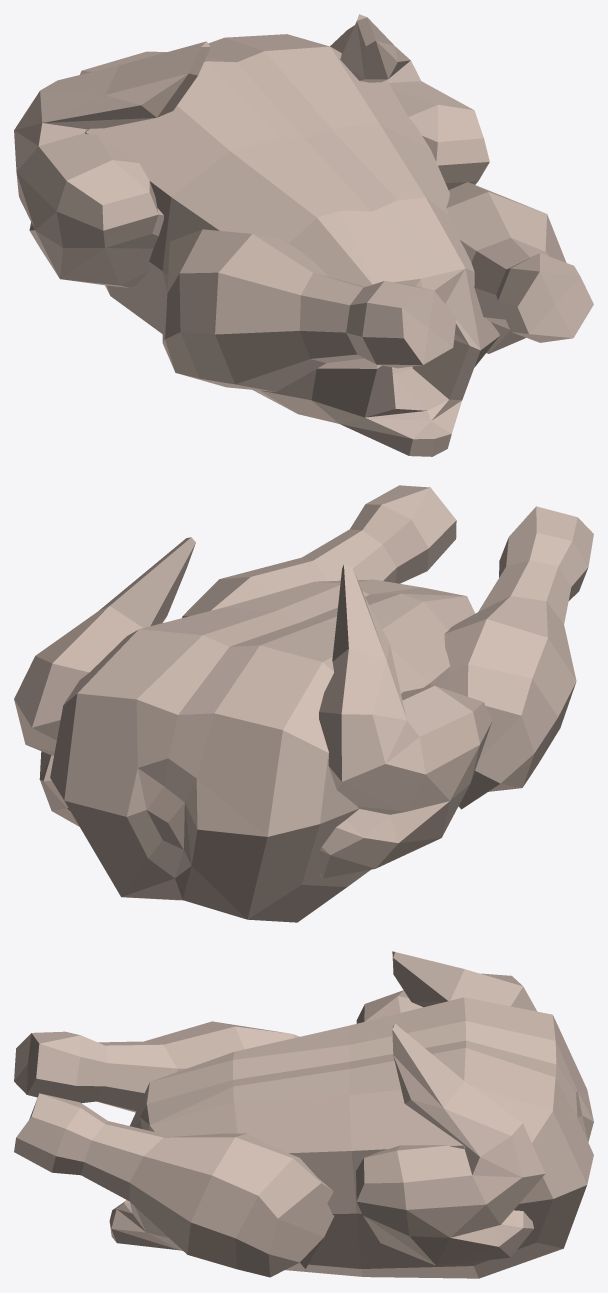
Rendered from Chicken.fbx.
3 renders of one model, top to bottom at view 1: azimuth 30°, elevation 25°; view 2: azimuth 150°, elevation 25°; view 3: azimuth 270°, elevation 25°, orthographic. The views are drawn at different scales.
Parts seen in each view (by area): view 1: ChickenMeat01; view 2: ChickenMeat01; view 3: ChickenMeat01.
Part boxes in pixels (x1,y1,x2,y2): ChickenMeat01: (14, 14, 593, 456); ChickenMeat01: (14, 485, 593, 922); ChickenMeat01: (14, 951, 593, 1278).
Size of the model in its own units: 29.79 by 22.2 by 41.95.
